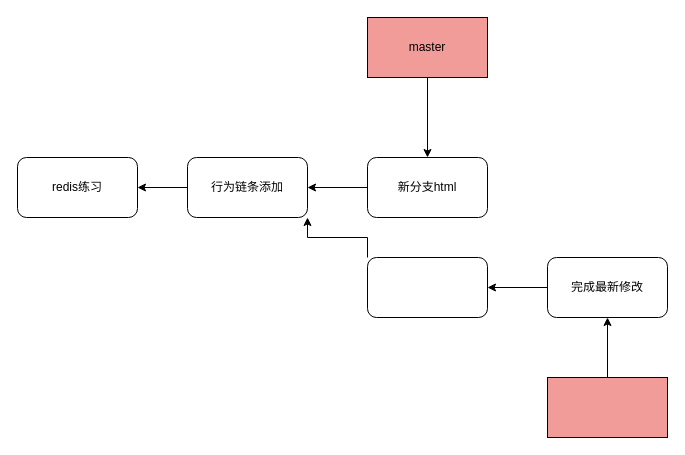
Some shapes in this 685 by 455 pixel diagram are drawn without their labels. Each missing label, with the centre of its shape:
iss53: point (607, 407)
新增html文件: point (427, 287)
